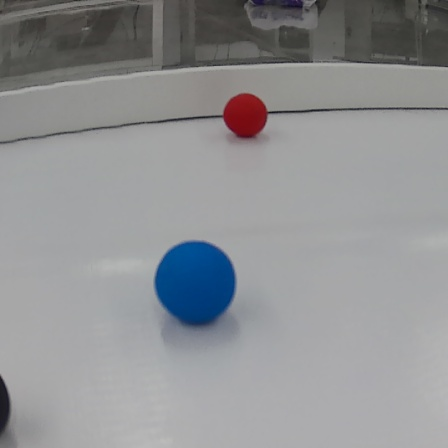blue: (151, 241, 238, 331)
red: (220, 90, 269, 139)
